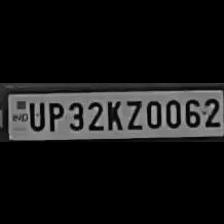0: (144, 96, 162, 128), (164, 96, 182, 127)
2: (84, 98, 104, 130), (202, 93, 220, 126)
3: (64, 98, 84, 130)
6: (183, 95, 200, 127)
K: (103, 97, 123, 131)
P: (45, 97, 63, 130)
U: (26, 98, 44, 130)
Z: (123, 96, 143, 130)
